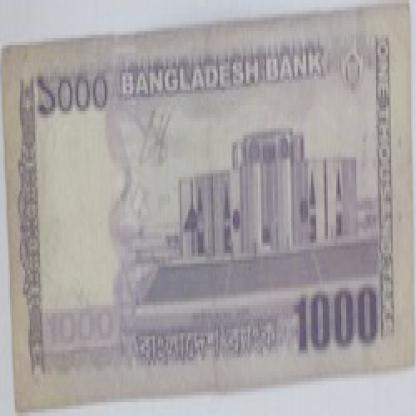One Thousand taka: (288, 288, 384, 360), (42, 295, 120, 357), (35, 70, 111, 122)
